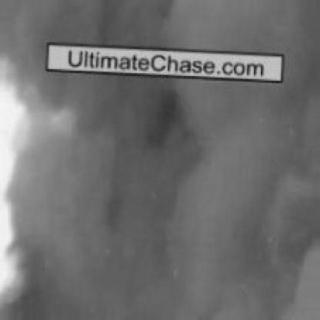Fire: (0, 61, 27, 300)
